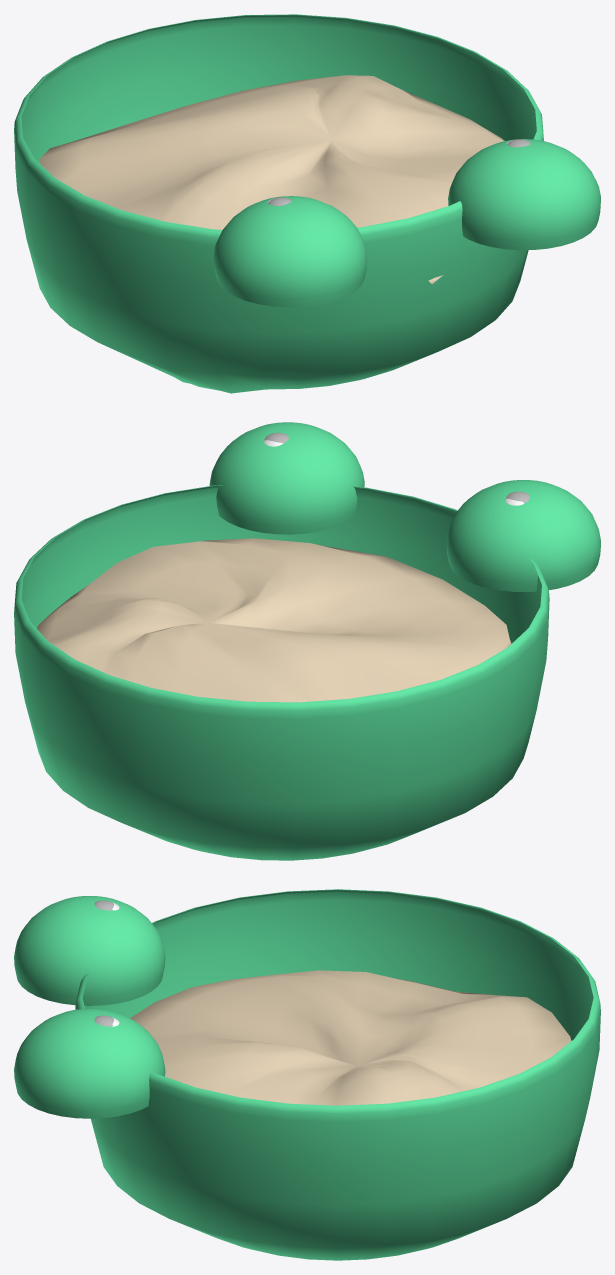
The model's file is Mangkok dan Bubur_Reghina_140810220029.fbx.
The picture shows the model from 3 angles, top to bottom: view 1: azimuth 30°, elevation 25°; view 2: azimuth 150°, elevation 25°; view 3: azimuth 270°, elevation 25°; orthographic projection. The views are drawn at different scales.
Parts seen in each view (by area): view 1: mangkok, bubur, telinga; view 2: mangkok, bubur, telinga; view 3: mangkok, bubur, telinga.
Part boxes in pixels (x1,y1,x2,y2): mangkok: (14, 14, 543, 393); bubur: (39, 75, 504, 284); telinga: (213, 139, 600, 307); mangkok: (14, 485, 549, 860); bubur: (36, 538, 511, 702); telinga: (209, 422, 600, 592); mangkok: (75, 889, 600, 1260); bubur: (130, 970, 571, 1105); telinga: (14, 896, 165, 1118).
Bounding box in the file's own units: 209 × 107 × 233.
